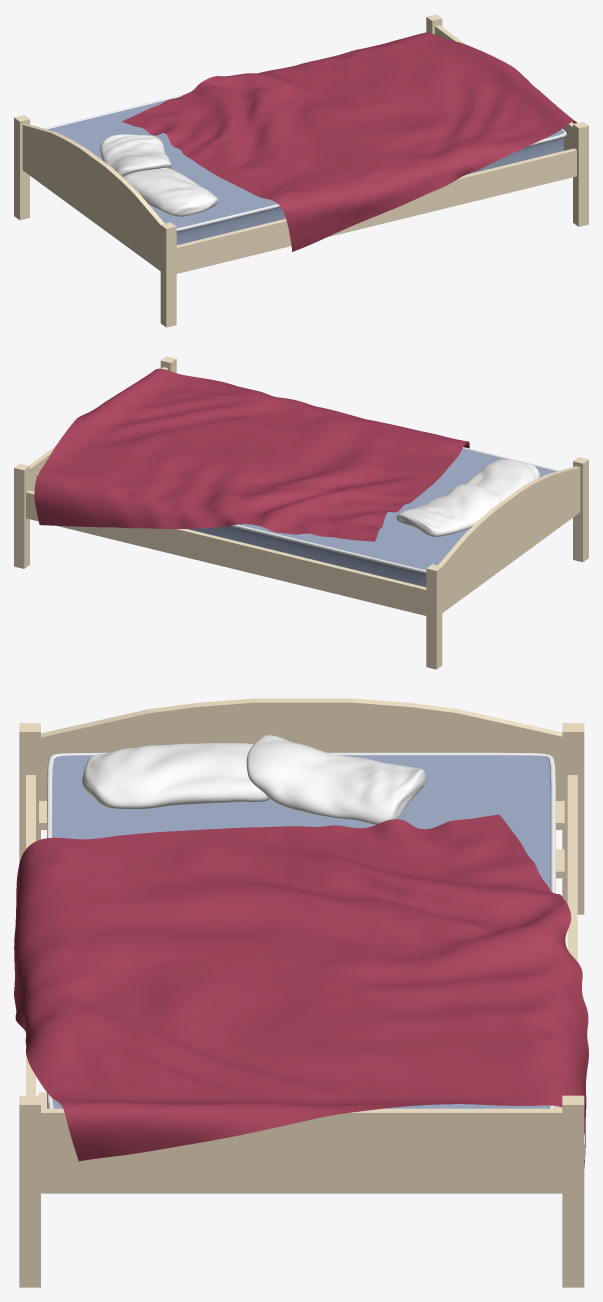
Rendered from BedModel.fbx.
The picture shows the model from 3 angles, top to bottom: view 1: azimuth 30°, elevation 25°; view 2: azimuth 150°, elevation 25°; view 3: azimuth 270°, elevation 25°; orthographic projection. The views are drawn at different scales.
Parts seen in each view (by area): view 1: Blanket2, Cube.059, pCube429, pCube365.006, pCube365.007; view 2: Blanket2, Cube.059, pCube429, pCube365.007, pCube365.006; view 3: Blanket2, Cube.059, pCube429, pCube365.007, pCube365.006.
Boxes of the visible parts, x1,y1,x2,y2 form: Blanket2: (122,32,576,251); Cube.059: (14,14,588,327); pCube429: (45,94,566,245); pCube365.006: (123,167,218,216); pCube365.007: (100,134,171,176); Blanket2: (34,368,469,541); Cube.059: (14,356,588,669); pCube429: (36,447,558,587); pCube365.007: (396,484,500,536); pCube365.006: (465,459,540,501); Blanket2: (14,814,588,1167); Cube.059: (19,698,584,1287); pCube429: (47,752,555,1108); pCube365.007: (246,735,426,824); pCube365.006: (82,743,269,809).
Size of the model in its own units: 513 by 128 by 319.
